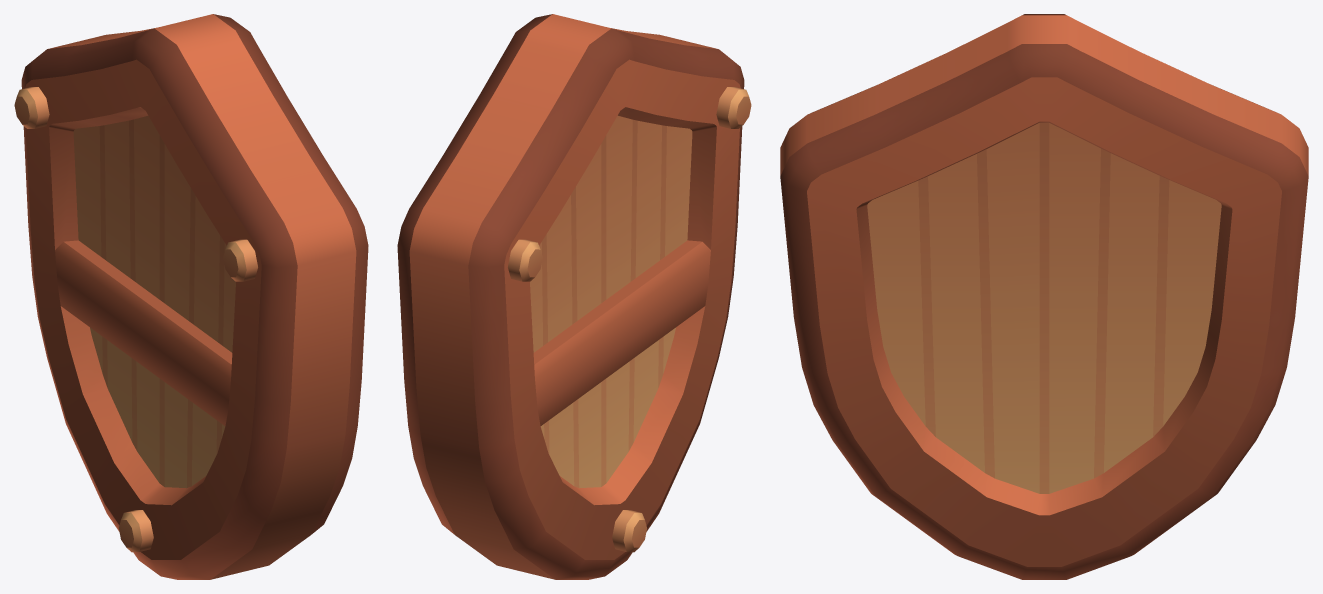
File: Shield_V1_02.fbx
The picture shows the model from 3 angles, left to right: view 1: azimuth 30°, elevation 25°; view 2: azimuth 150°, elevation 25°; view 3: azimuth 270°, elevation 25°; orthographic projection.
Parts seen in each view (by area): view 1: Shield_V1_02; view 2: Shield_V1_02; view 3: Shield_V1_02.
Boxes of the visible parts, left/top/right/bottom form: Shield_V1_02: left=14, top=14, right=368, bottom=579; Shield_V1_02: left=397, top=14, right=751, bottom=579; Shield_V1_02: left=780, top=14, right=1308, bottom=579.
Bounding box in the file's own units: 9.61 × 40.7 × 36.44.
